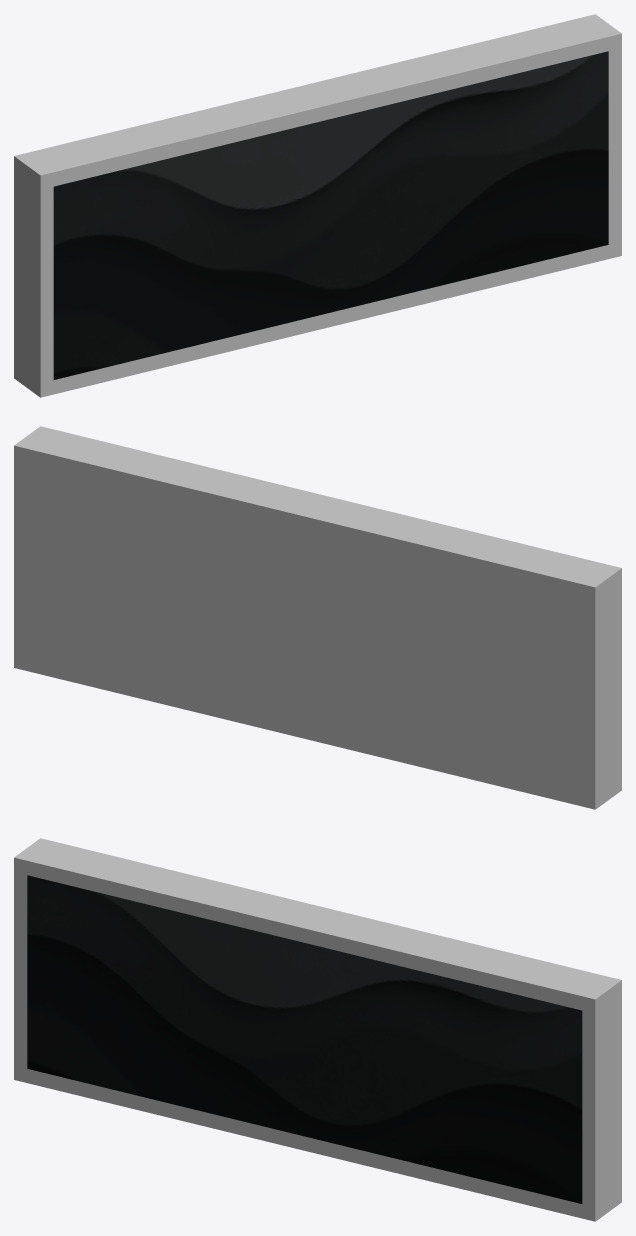
Rendered from Billboard_3x1_06.fbx.
The picture shows the model from 3 angles, top to bottom: view 1: azimuth 30°, elevation 25°; view 2: azimuth 150°, elevation 25°; view 3: azimuth 330°, elevation 25°; orthographic projection.
Parts seen in each view (by area): view 1: Billboard_3x1_06; view 2: Billboard_3x1_06; view 3: Billboard_3x1_06.
Boxes of the visible parts, left/top/right/bottom form: Billboard_3x1_06: left=14, top=14, right=621, bottom=397; Billboard_3x1_06: left=14, top=426, right=621, bottom=809; Billboard_3x1_06: left=14, top=838, right=621, bottom=1221.
Bounding box in the file's own units: 962 × 75.97 × 351.
